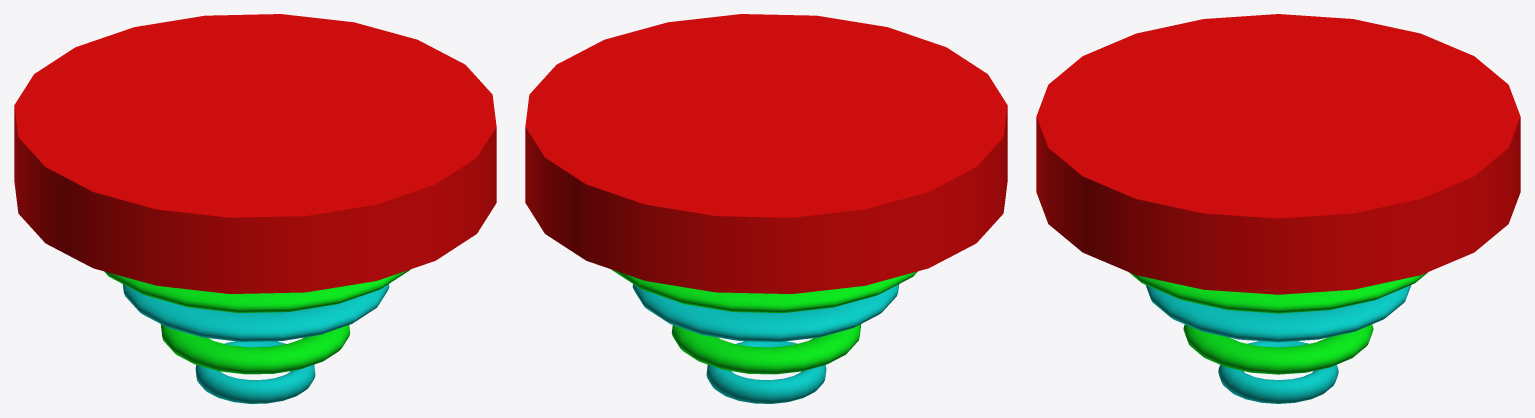
File: Spring.fbx
The picture shows the model from 3 angles, left to right: view 1: azimuth 30°, elevation 25°; view 2: azimuth 150°, elevation 25°; view 3: azimuth 270°, elevation 25°; orthographic projection.
Parts seen in each view (by area): view 1: springLid, pTorus3, pTorus2, pTorus4, pTorus1; view 2: springLid, pTorus3, pTorus2, pTorus4, pTorus1; view 3: springLid, pTorus3, pTorus2, pTorus4, pTorus1.
Part boxes in pixels (x1,y1,x2,y2): springLid: (14, 14, 496, 293); pTorus3: (122, 284, 389, 341); pTorus2: (160, 324, 350, 374); pTorus4: (104, 269, 410, 312); pTorus1: (195, 341, 315, 403); springLid: (525, 14, 1007, 293); pTorus3: (632, 284, 899, 341); pTorus2: (671, 324, 861, 374); pTorus4: (611, 269, 917, 312); pTorus1: (706, 341, 826, 403); springLid: (1036, 14, 1520, 294); pTorus3: (1145, 285, 1411, 342); pTorus2: (1183, 324, 1373, 374); pTorus4: (1129, 272, 1427, 313); pTorus1: (1218, 341, 1338, 403).
Bounding box in the file's own units: 10.05 × 6.1 × 10.05.
